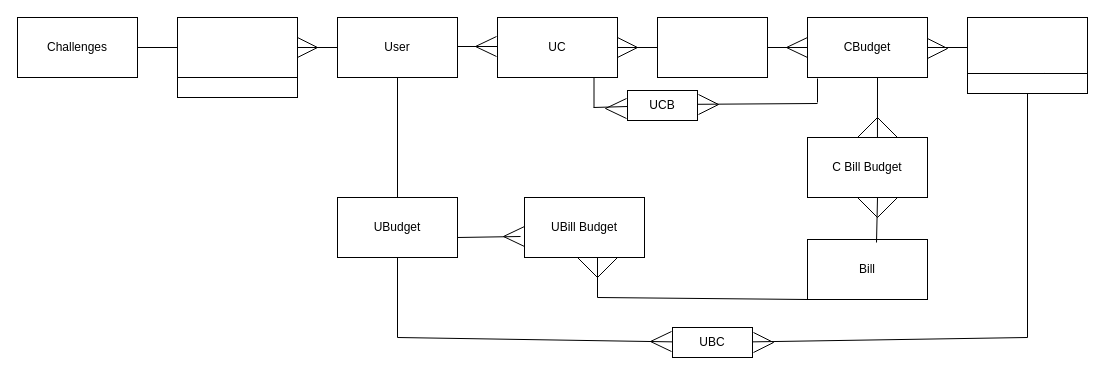
This 1105x375 diagram has some shape labels left out. The shapes that lost their labels are listed below. From the top down, each one's box as (x1, y1, x2, y2) in pixels, then its label:
(176, 16, 298, 78): CU
(656, 16, 768, 78): Community
(966, 16, 1088, 78): Bill Categ.
(176, 76, 298, 98): Value
(966, 72, 1088, 94): Categories
